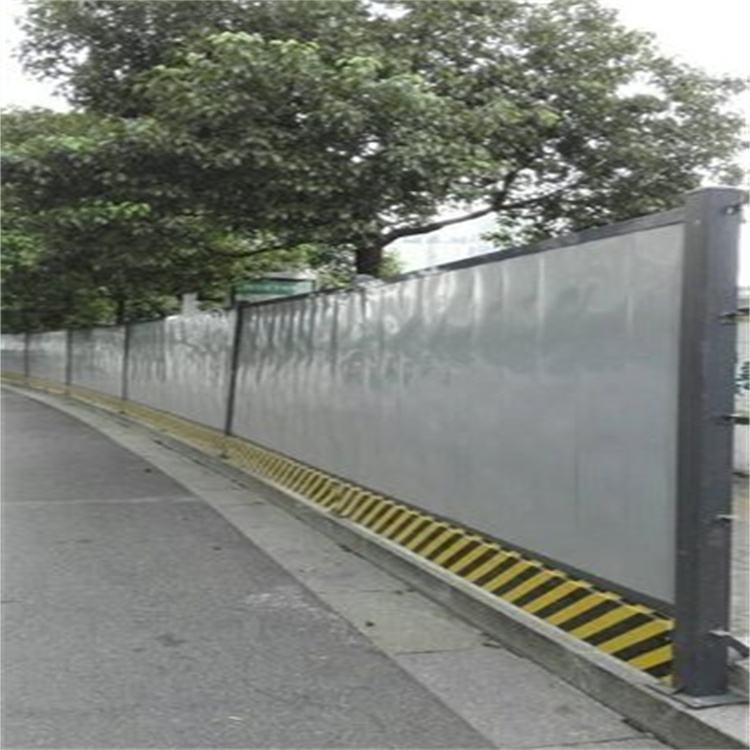sign: (218, 198, 750, 689)
